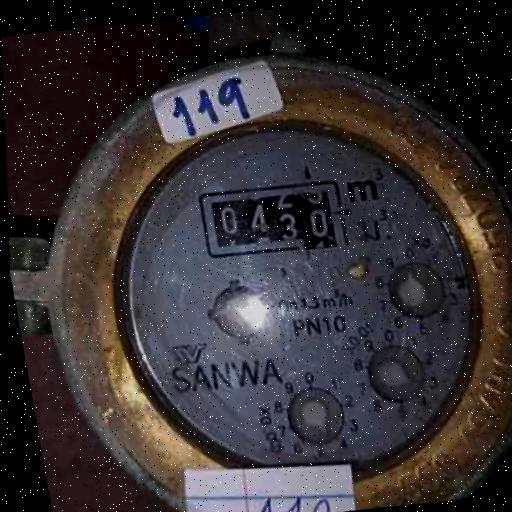0: (295, 189, 336, 251), (210, 199, 250, 249)
2: (269, 193, 305, 243)
4: (241, 195, 279, 246)
border_water_meter_number: (197, 175, 351, 267)
